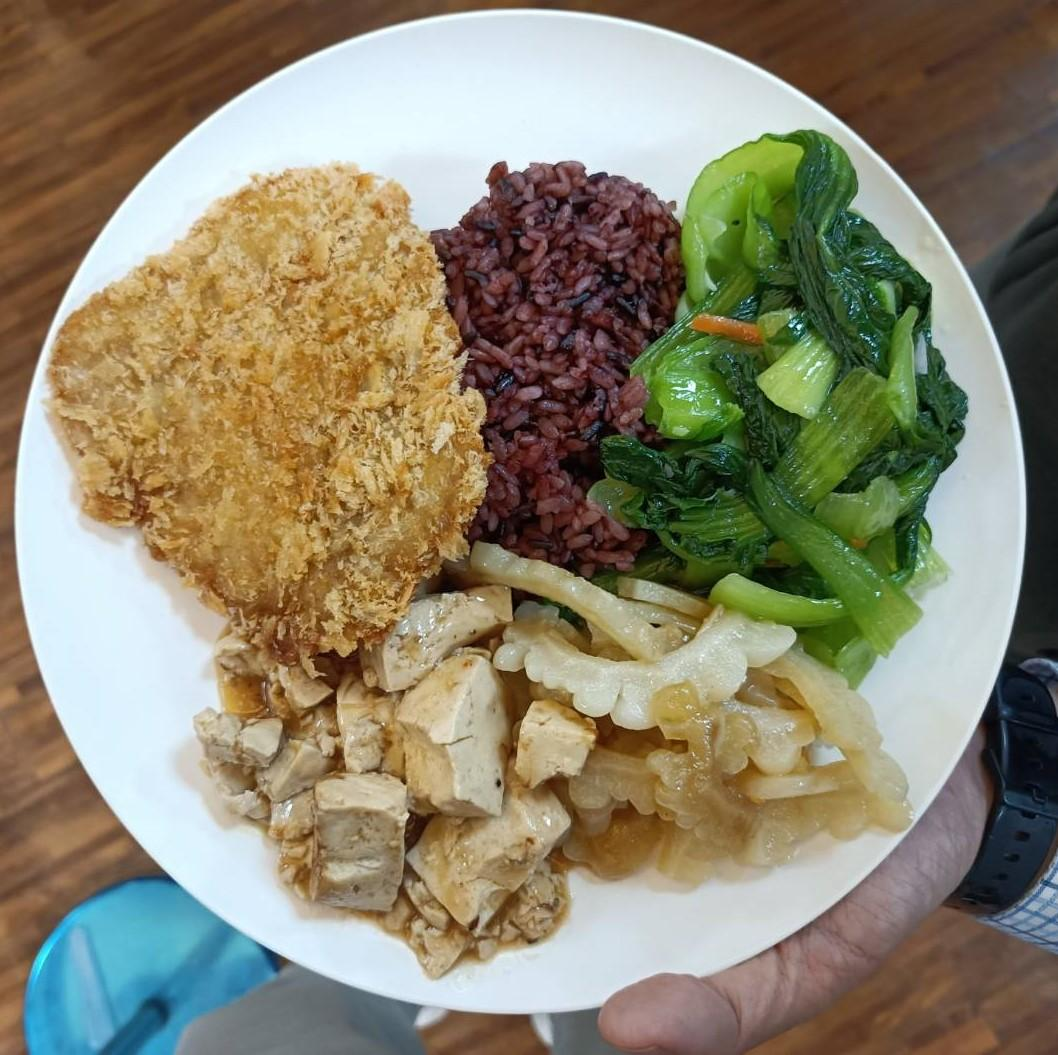big fried chicken leg: (5, 11, 1039, 1030)
braised fish: (428, 153, 691, 576)
braised fish fillet: (620, 125, 965, 678), (202, 574, 569, 976), (493, 550, 911, 882)
braised pork: (43, 161, 488, 664)
